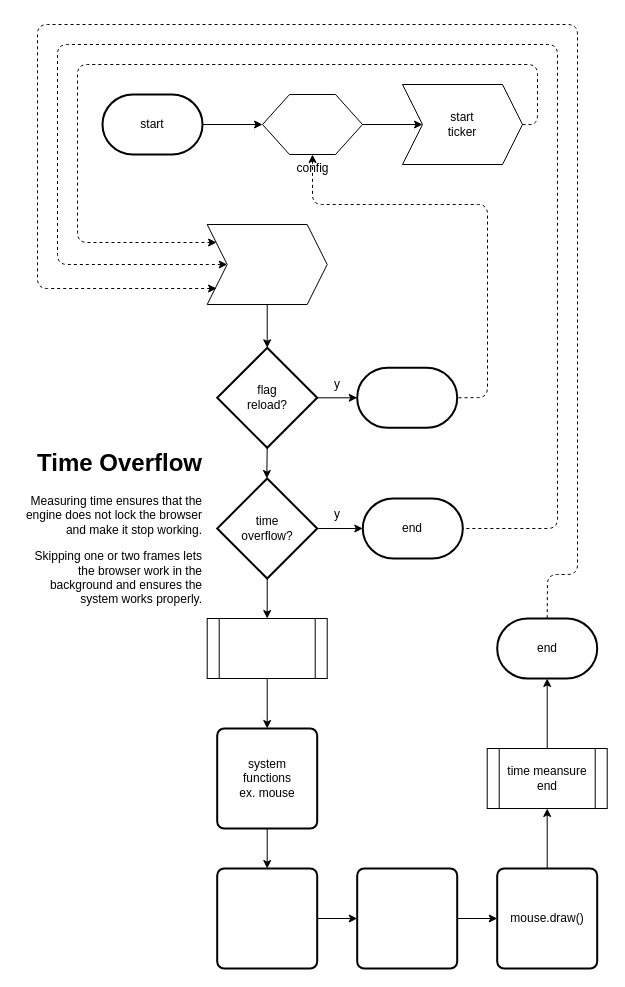
The diagram is 625 pixels wide and 987 high, and some of its shapes have lost their labels. The centre of each missing label's shape, as x and y in pixels:
"draw functions ex. draw" belongs at (407,918).
"kill ticker" belongs at (407,397).
"math functions ex. tween" belongs at (267,918).
"ticker event" belongs at (266,264).
"time meansure start" belongs at (266,648).
